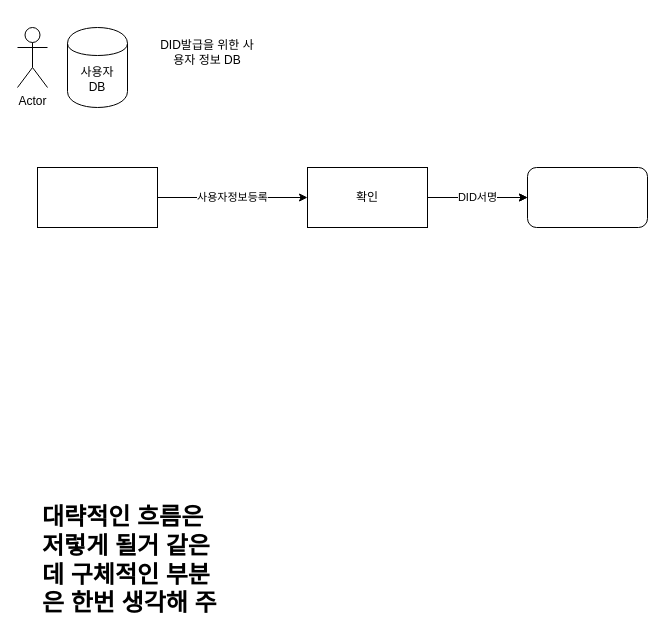
The diagram is 665 pixels wide and 634 high, and some of its shapes have lost their labels. The centre of each missing label's shape, as x and y in pixels:
"사용자 정보 입력" belongs at [97,197].
"인증기관(경찰서)" belongs at [587,197].
